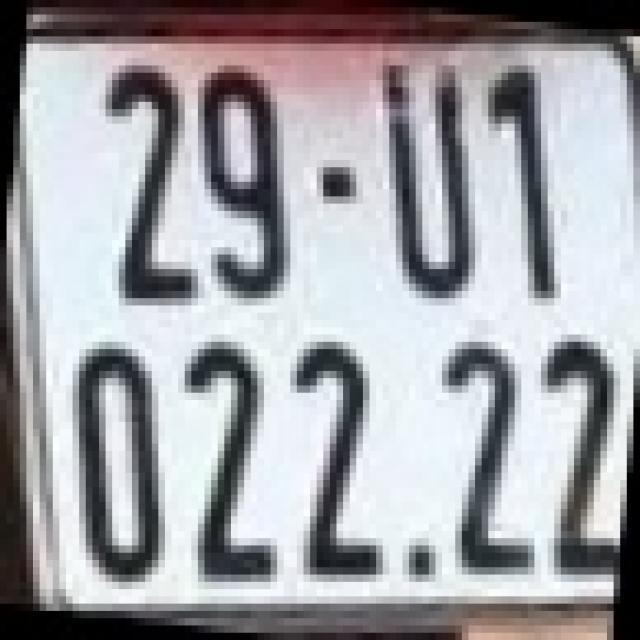0: (72, 342, 166, 582)
1: (488, 65, 568, 298)
2: (290, 334, 390, 582), (442, 334, 541, 574), (105, 58, 198, 306), (185, 334, 278, 582), (541, 334, 620, 574)
9: (198, 65, 290, 298)
U: (376, 58, 475, 291)
